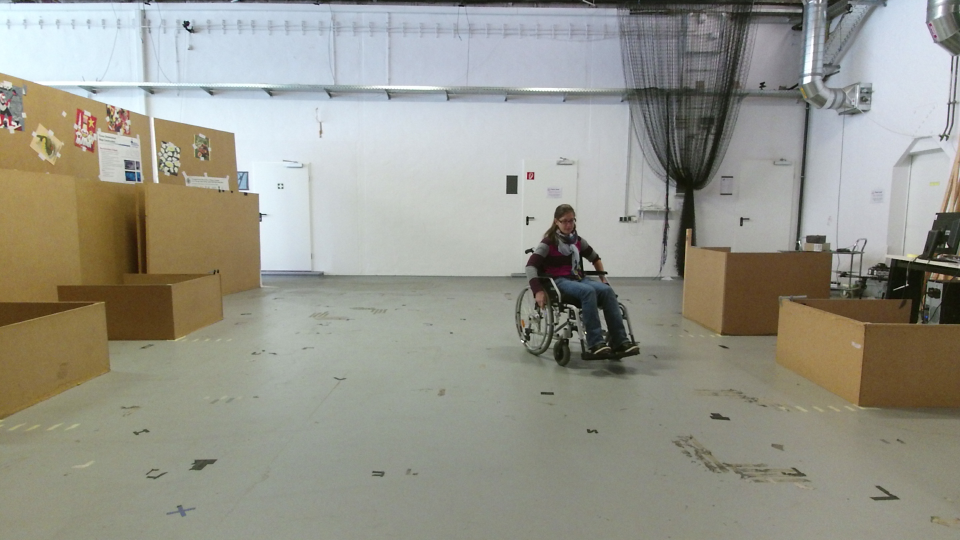wheelchair: (504, 198, 645, 368)
